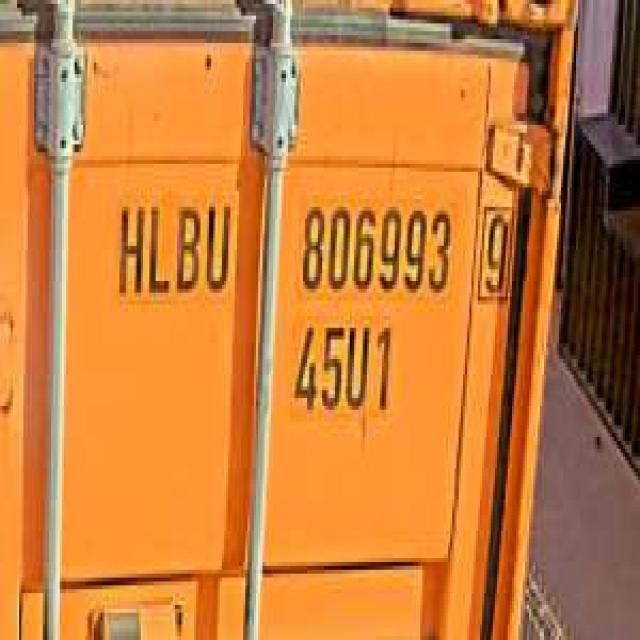dv: (472, 192, 516, 308)
owner: (111, 192, 232, 304)
serial: (294, 195, 452, 301)
size: (288, 312, 395, 422)
